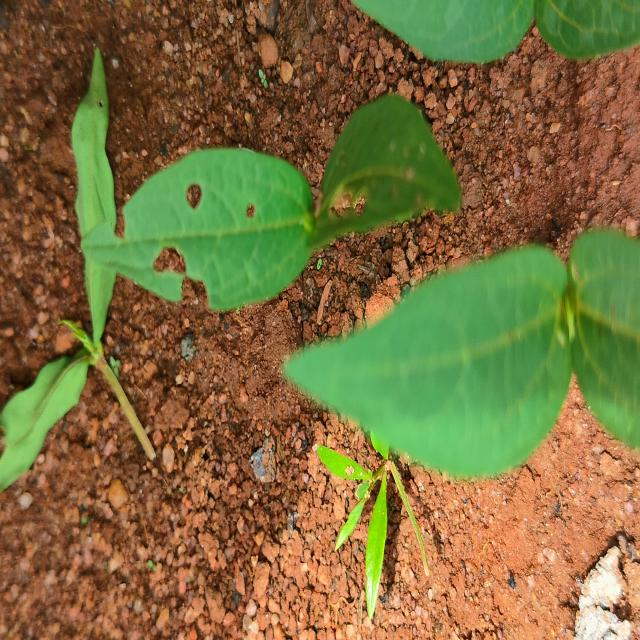Black gram_healthy: (282, 247, 576, 475), (80, 145, 320, 305)
